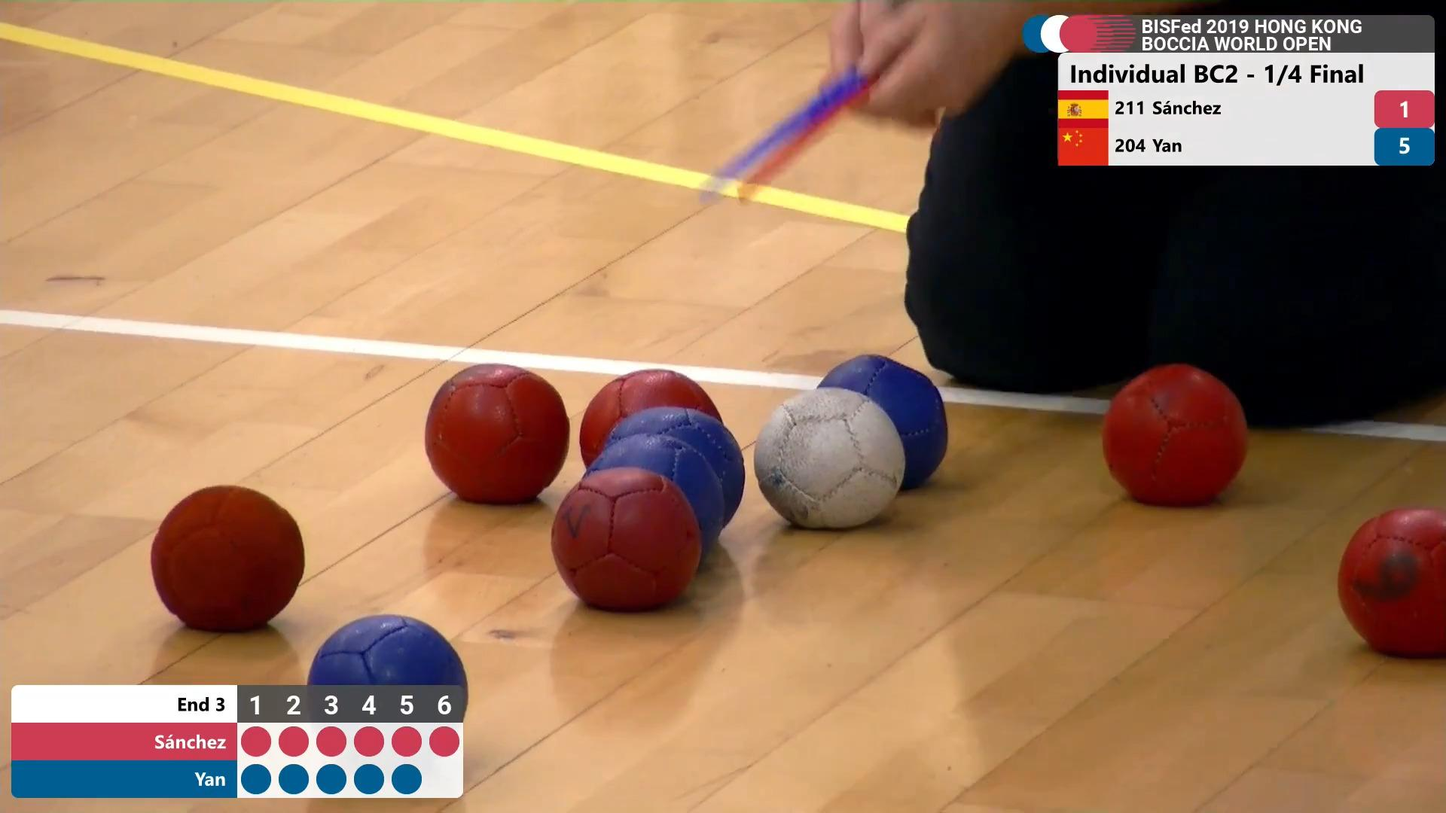blue_ball: (289, 606, 474, 713), (589, 405, 759, 508)
red_ball: (141, 474, 314, 648), (542, 464, 711, 626), (1092, 355, 1256, 514), (411, 354, 574, 513), (1337, 498, 1446, 669), (580, 356, 730, 448)
white_ball: (748, 385, 913, 544)
